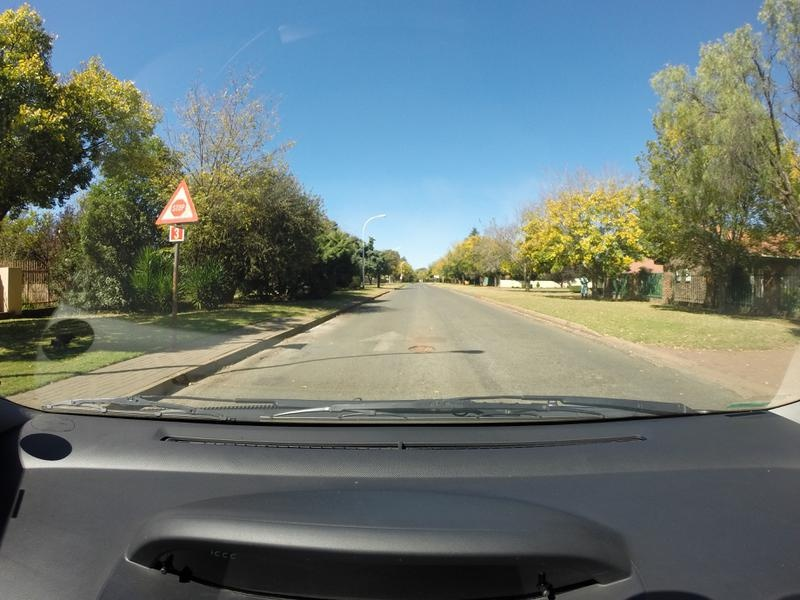pothole: (409, 344, 437, 354)
